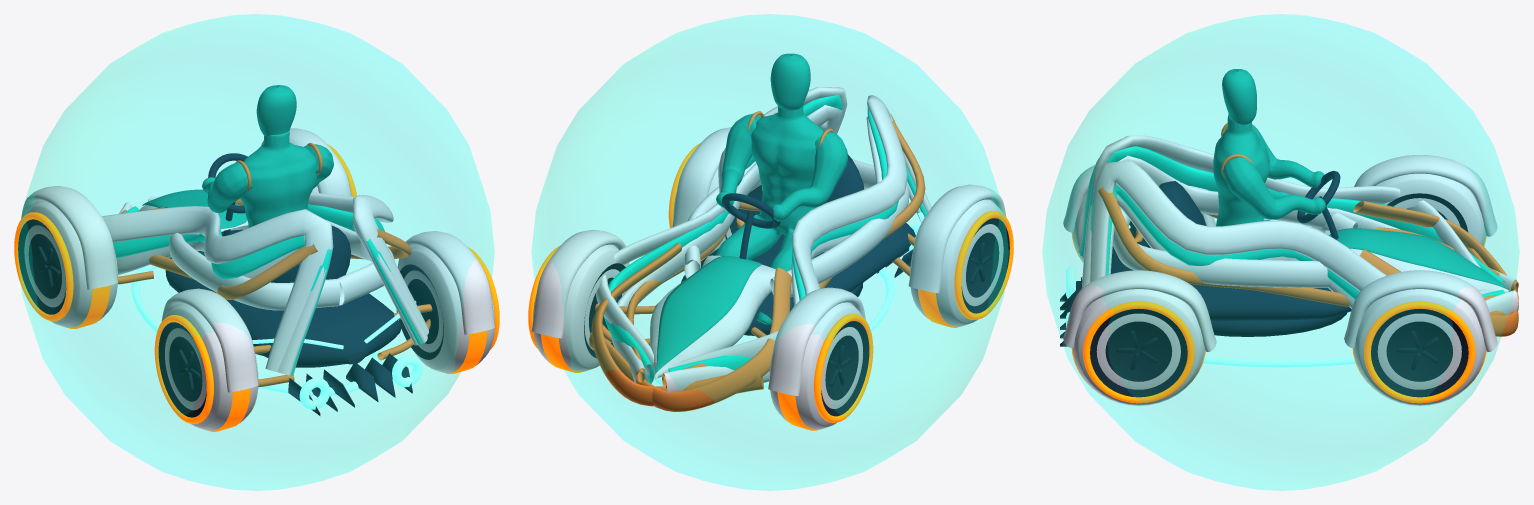
The model's file is helix.glb.
3 views of the same model, side by side, from view 1: azimuth 30°, elevation 25°; view 2: azimuth 150°, elevation 25°; view 3: azimuth 270°, elevation 25° (orthographic).
Visible parts, largest first — view 1: helix:aegis-shield, helix:coachwork-batch.001, helix:coachwork-batch, helix:torso, helix:rounded-wheel-shell.003, helix:coachwork-batch.002, helix:rounded-wheel-shell.002, helix:rounded-wheel-shell, helix:interlaced-body-ribbon, helix:recessed-colored-hub.002, helix:recessed-colored-hub, helix:head-mesh (+13 smaller); view 2: helix:aegis-shield, helix:coachwork-batch.001, helix:coachwork-batch.002, helix:torso, helix:bonnet-enamel-inlay, helix:coachwork-batch, helix:rounded-wheel-shell.001, helix:rounded-wheel-shell, helix:rounded-wheel-shell.002, helix:arm-l-mesh, helix:interlaced-body-ribbon.001, helix:recessed-colored-hub.002 (+12 smaller); view 3: helix:aegis-shield, helix:coachwork-batch.001, helix:coachwork-batch, helix:coachwork-batch.002, helix:rounded-wheel-shell.001, helix:rounded-wheel-shell.003, helix:recessed-colored-hub.003, helix:recessed-colored-hub.001, helix:bonnet-enamel-inlay, helix:interlaced-body-ribbon, helix:torso, helix:rounded-wheel-shell (+9 smaller).
Boxes of the visible parts, x1,y1,x2,y2 form: helix:aegis-shield: [17, 14, 494, 490]; helix:coachwork-batch.001: [21, 128, 495, 392]; helix:coachwork-batch: [165, 201, 412, 415]; helix:torso: [200, 130, 316, 256]; helix:rounded-wheel-shell.003: [398, 246, 494, 372]; helix:coachwork-batch.002: [118, 199, 432, 387]; helix:rounded-wheel-shell.002: [165, 303, 258, 430]; helix:rounded-wheel-shell: [24, 200, 117, 327]; helix:interlaced-body-ribbon: [113, 206, 331, 375]; helix:recessed-colored-hub.002: [158, 322, 206, 417]; helix:recessed-colored-hub: [18, 219, 66, 314]; helix:head-mesh: [256, 85, 296, 136]; helix:aegis-shield: [531, 14, 1008, 490]; helix:coachwork-batch.001: [531, 87, 1006, 395]; helix:coachwork-batch.002: [589, 114, 925, 411]; helix:torso: [715, 104, 823, 324]; helix:bonnet-enamel-inlay: [656, 256, 761, 372]; helix:coachwork-batch: [681, 154, 915, 335]; helix:rounded-wheel-shell.001: [533, 244, 628, 371]; helix:rounded-wheel-shell: [769, 302, 862, 429]; helix:rounded-wheel-shell.002: [910, 199, 1003, 326]; helix:arm-l-mesh: [771, 132, 847, 221]; helix:interlaced-body-ribbon.001: [603, 95, 842, 383]; helix:recessed-colored-hub.002: [961, 218, 1009, 313]; helix:aegis-shield: [1042, 14, 1519, 490]; helix:coachwork-batch.001: [1063, 135, 1517, 351]; helix:coachwork-batch: [1060, 181, 1351, 346]; helix:coachwork-batch.002: [1098, 186, 1518, 336]; helix:rounded-wheel-shell.001: [1353, 289, 1485, 405]; helix:rounded-wheel-shell.003: [1072, 289, 1204, 405]; helix:recessed-colored-hub.003: [1090, 308, 1187, 397]; helix:recessed-colored-hub.001: [1371, 308, 1468, 397]; helix:bonnet-enamel-inlay: [1329, 228, 1508, 289]; helix:interlaced-body-ribbon: [1080, 146, 1505, 282]; helix:torso: [1213, 114, 1270, 226]; helix:rounded-wheel-shell: [1375, 173, 1485, 245].
Bounding box in the file's own units: 4.3 × 4.3 × 4.3.
